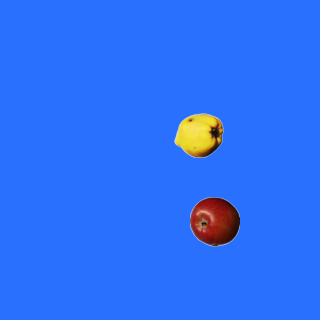Apple Braeburn: (189, 196, 239, 246)
Quince: (173, 110, 223, 160)
